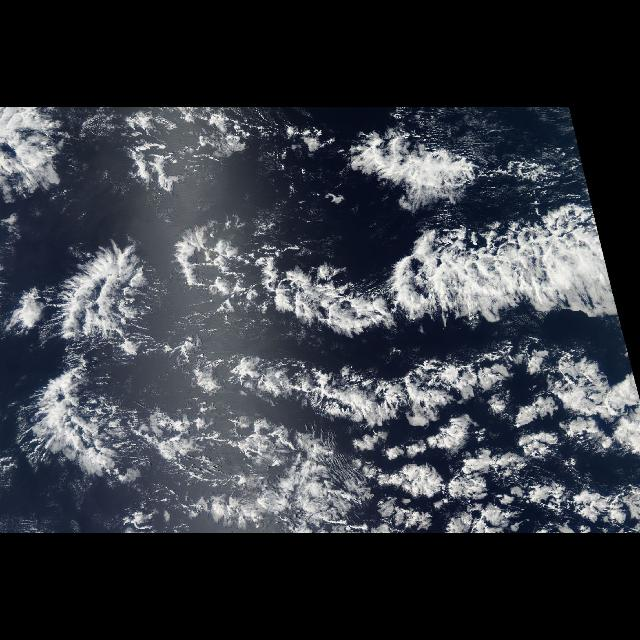Fish: (170, 222, 638, 414), (25, 224, 162, 478)
Flower: (365, 420, 633, 530)
